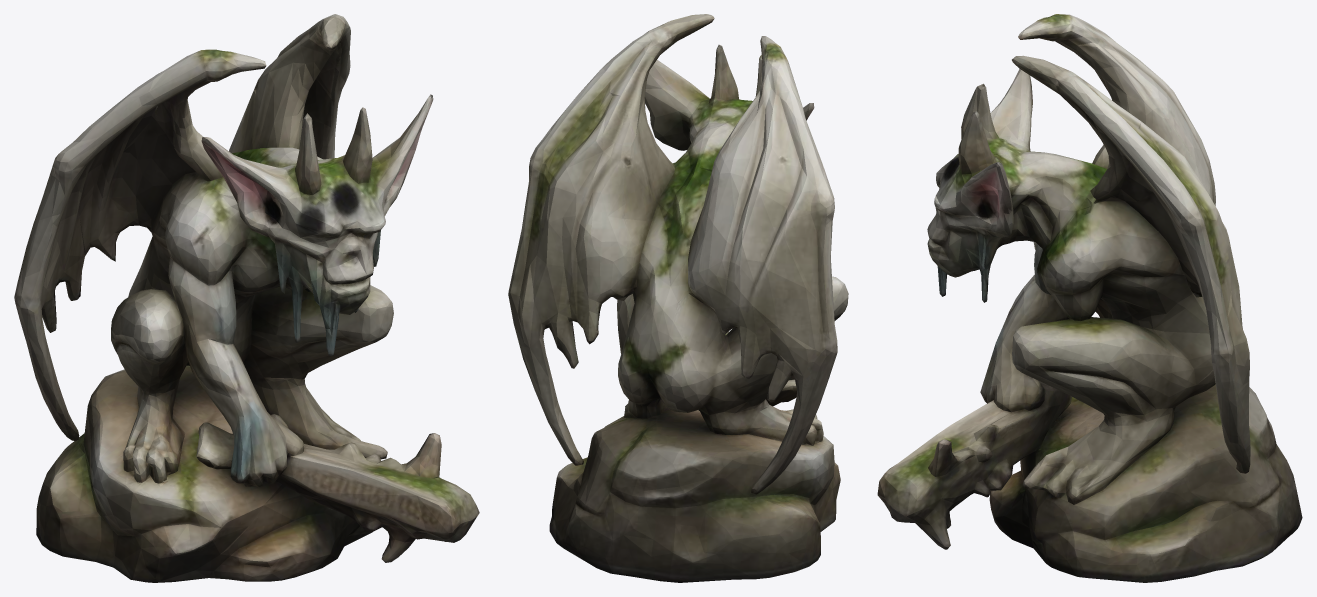
File: caveGargoyle.glb
3 views of the same model, side by side, from view 1: azimuth 30°, elevation 25°; view 2: azimuth 150°, elevation 25°; view 3: azimuth 270°, elevation 25° (orthographic). The views are drawn at different scales.
Parts seen in each view (by area): view 1: world; view 2: world; view 3: world.
Boxes of the visible parts, x1,y1,x2,y2 form: world: (14,14,479,582); world: (508,14,848,582); world: (877,14,1302,582).
Size of the model in its own units: 0.5561 by 0.7979 by 0.6353.
Materials: 1 (1 with a texture image).
